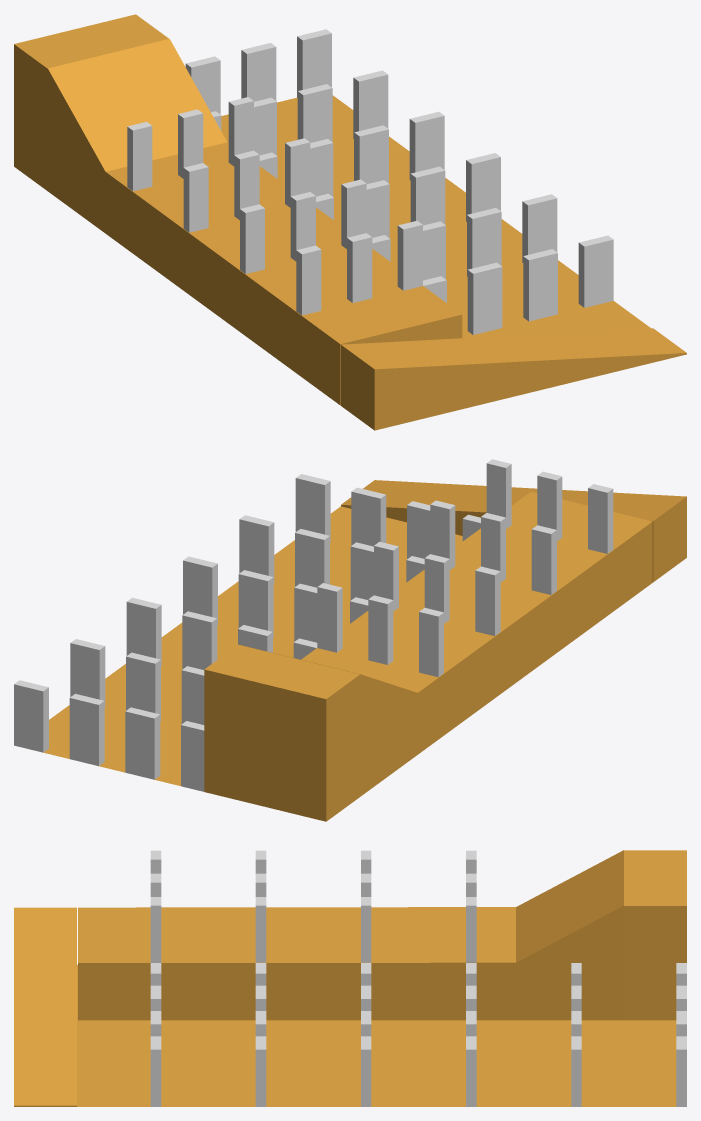
File: course04.glb
3 renders of one model, top to bottom at view 1: azimuth 30°, elevation 25°; view 2: azimuth 150°, elevation 25°; view 3: azimuth 270°, elevation 25°, orthographic. The views are drawn at different scales.
Parts seen in each view (by area): view 1: c4, c4_bottom_wall_grid, c4_upper_wall_grid; view 2: c4, c4_bottom_wall_grid, c4_upper_wall_grid; view 3: c4, c4_bottom_wall_grid, c4_upper_wall_grid.
Part boxes in pixels (x1,y1,x2,y2): c4: [14, 14, 686, 430]; c4_bottom_wall_grid: [185, 29, 613, 334]; c4_upper_wall_grid: [127, 97, 422, 315]; c4: [43, 480, 686, 821]; c4_bottom_wall_grid: [14, 474, 480, 791]; c4_upper_wall_grid: [317, 459, 613, 677]; c4: [14, 850, 686, 1106]; c4_bottom_wall_grid: [150, 963, 686, 1106]; c4_upper_wall_grid: [150, 850, 476, 962].
Size of what is drawn, in the model's own units: 16 by 6.02 by 32.
